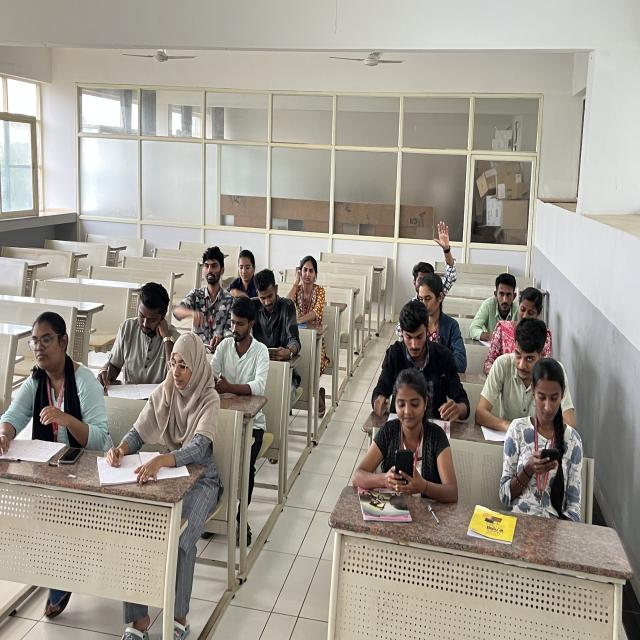Hand Rising: (405, 222, 461, 319), (292, 258, 328, 326)
Using Phone: (497, 362, 603, 500), (358, 367, 462, 499)
Writing: (98, 333, 210, 485), (91, 278, 189, 394)
